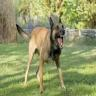dog: (16, 14, 66, 94)
